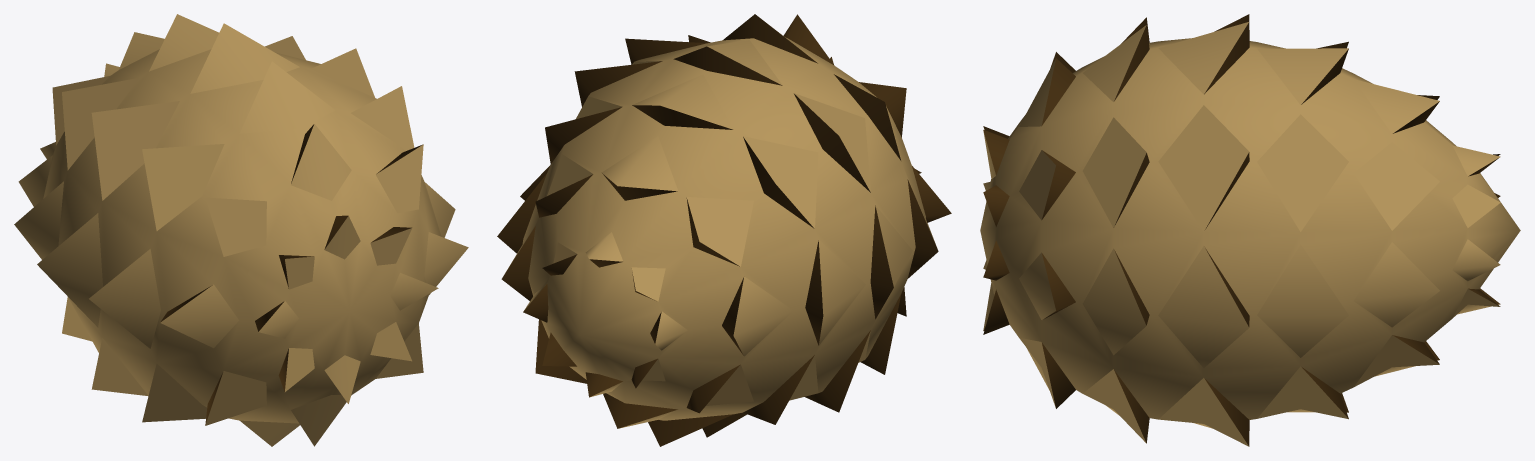
The model's file is SM_Pinecone.fbx.
The picture shows the model from 3 angles, left to right: view 1: azimuth 30°, elevation 25°; view 2: azimuth 150°, elevation 25°; view 3: azimuth 270°, elevation 25°; orthographic projection. The views are drawn at different scales.
Parts seen in each view (by area): view 1: SM_Pinecone; view 2: SM_Pinecone; view 3: SM_Pinecone.
Boxes of the visible parts, x1=… form: SM_Pinecone: x1=14, y1=14, x2=468, y2=446; SM_Pinecone: x1=497, y1=14, x2=951, y2=446; SM_Pinecone: x1=980, y1=14, x2=1520, y2=446.
Bounding box in the file's own units: 220 × 220 × 258.
